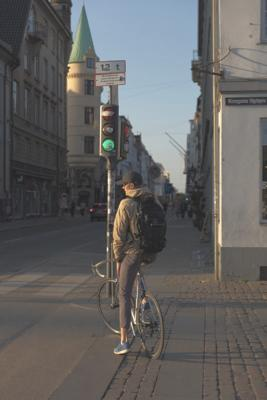International Road Signal Light: (99, 104, 119, 156), (119, 118, 130, 161)
